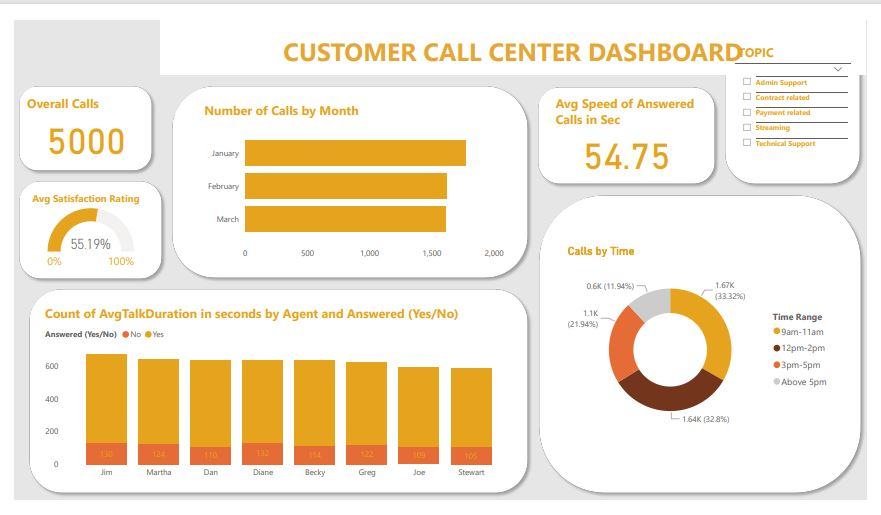

Layout of this report page (visuals, bound fields, positions):
{"tool":"powerbi","page":{"name":"Page 1","canvas":[1280,720],"ordinal":0},"visuals":[{"type":"shape","box":[1060.4,0,218.3,254.7],"z":0},{"type":"textbox","box":[219.9,0,1060.3,82.2],"z":1000},{"type":"shape","box":[0,91.1,215.3,142.4],"z":2000},{"type":"card","title":"Overall Calls","fields":{"Values":["Sheet1.Answered (Yes/No)"]},"box":[14.8,111.6,185.7,101.4],"z":3000},{"type":"shape","box":[0,233.8,230.4,163.2],"z":4000},{"type":"shape","box":[230.1,91.1,550.3,305.3],"z":6000},{"type":"barChart","title":"Number of Calls by Month","fields":{"Category":["Sheet1.Date.Variation.Date Hierarchy.Month"],"Y":["Sheet1.Call Id"]},"box":[281.4,123,459.1,246.1],"z":7000},{"type":"slicer","title":"TOPIC","fields":{"Values":["Sheet1.Topic"]},"box":[1083.4,35.3,173.2,197.1],"z":8000},{"type":"shape","box":[780.4,93.4,280.3,160.6],"z":9000},{"type":"card","title":"Avg Speed of Answered Calls in Sec","fields":{"Values":["Sheet1.Speed of answer in seconds"]},"box":[808.9,111.6,223.3,123],"z":10000},{"type":"shape","box":[781.5,254.7,498.5,464.8],"z":11000},{"type":"shape","box":[14.8,396.1,765.3,323.4],"z":12000},{"type":"columnChart","fields":{"Category":["Sheet1.Agent"],"Y":["Sheet1.AvgTalkDuration in seconds"],"Series":["Sheet1.Answered (Yes/No)"]},"box":[41.8,428.5,712.8,269.5],"z":13000},{"type":"donutChart","title":"Calls by Time","fields":{"Category":["Sheet1.Time Range"],"Y":["Sheet1.Call Id"]},"box":[827.3,336.8,409.6,300.5],"z":14000},{"type":"gauge","fields":{"Y":["Sheet1.Satisfaction Rating1"]},"box":[23.2,258.1,185.2,126.2],"z":16000}]}

Visuals, with their boxes in screenshot pixels (x1, y1, x2, y2):
shape: x1=715 y1=2 x2=863 y2=175
textbox: x1=145 y1=2 x2=864 y2=58
shape: x1=0 y1=64 x2=142 y2=161
"Overall Calls" card: x1=5 y1=78 x2=132 y2=147
shape: x1=0 y1=161 x2=152 y2=272
shape: x1=152 y1=64 x2=525 y2=271
"Number of Calls by Month" barChart: x1=186 y1=86 x2=498 y2=253
"TOPIC" slicer: x1=731 y1=26 x2=848 y2=160
shape: x1=525 y1=66 x2=715 y2=175
"Avg Speed of Answered Calls in Sec" card: x1=544 y1=78 x2=696 y2=162
shape: x1=526 y1=175 x2=864 y2=491
shape: x1=5 y1=271 x2=525 y2=491
columnChart - Sheet1.Agent x Sheet1.AvgTalkDuration in seconds: x1=24 y1=293 x2=508 y2=476
"Calls by Time" donutChart: x1=557 y1=231 x2=835 y2=435
gauge - Sheet1.Satisfaction Rating1: x1=11 y1=177 x2=137 y2=263
